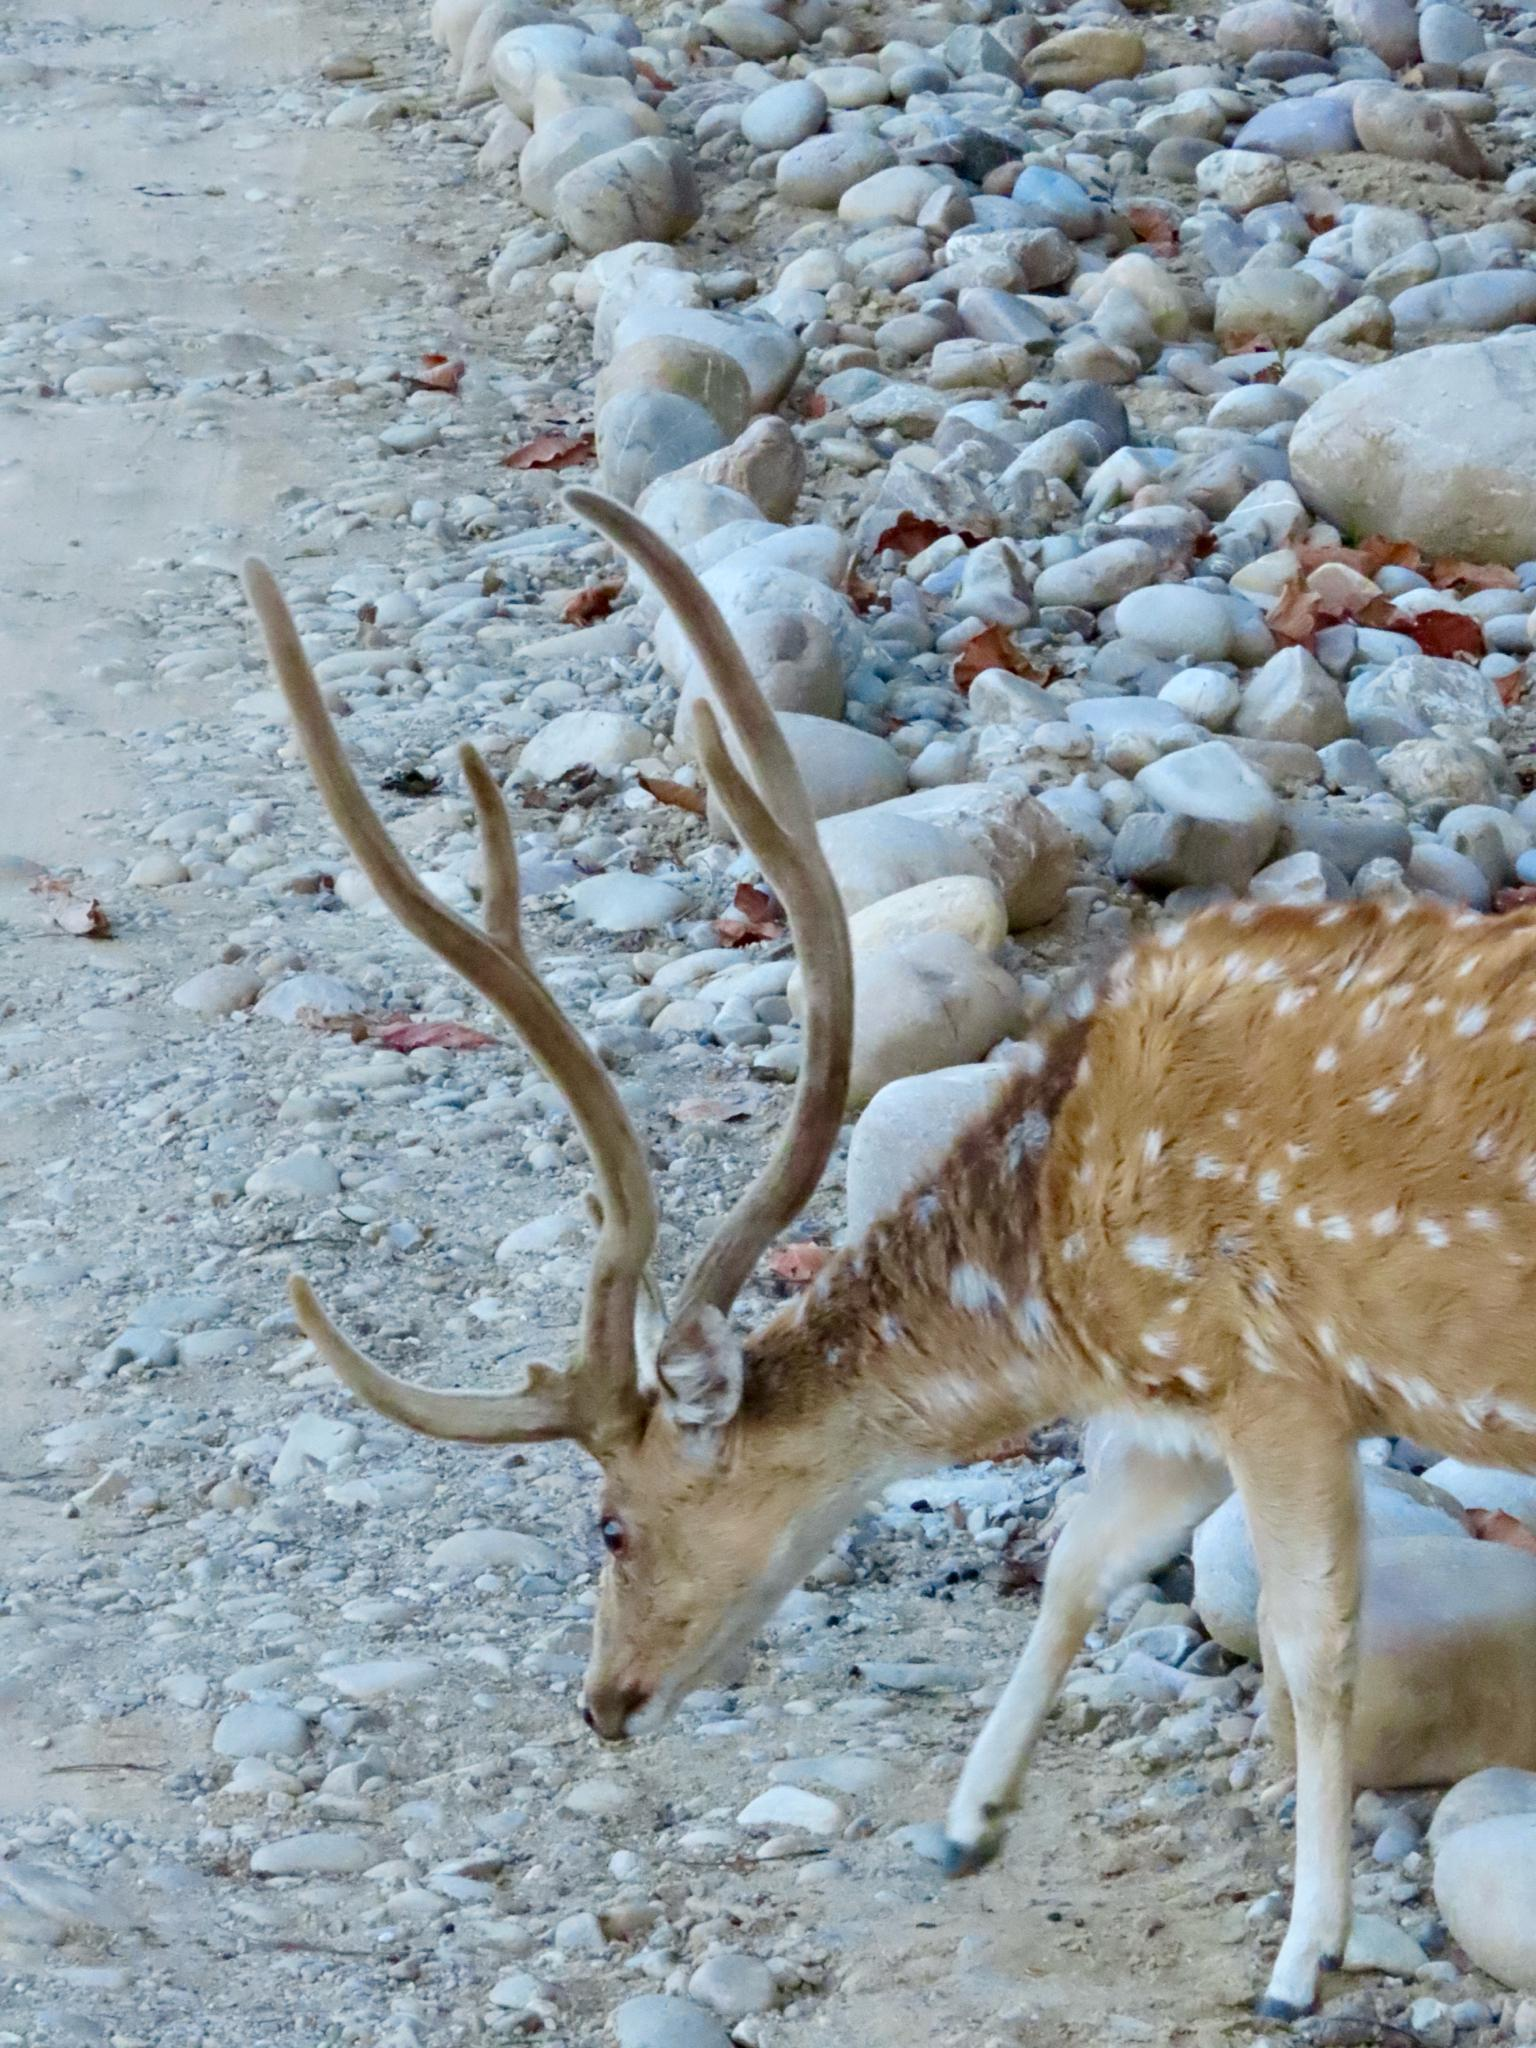Deer: (245, 490, 1534, 2016)
